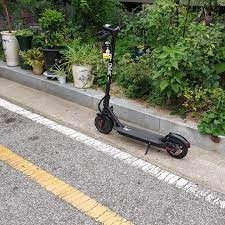kick_board: (95, 24, 190, 159)
kick_body: (123, 126, 161, 144)
kick_handler: (98, 24, 125, 39)
kick_neck: (105, 42, 114, 104)
kick_wheel: (167, 133, 188, 159), (95, 114, 113, 134)
